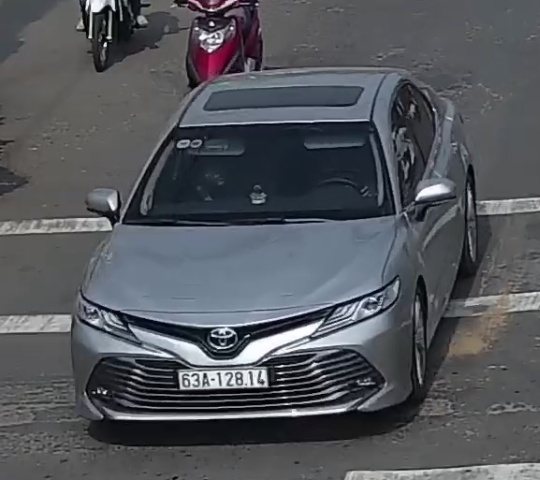vehicle plate: (175, 363, 277, 393)
